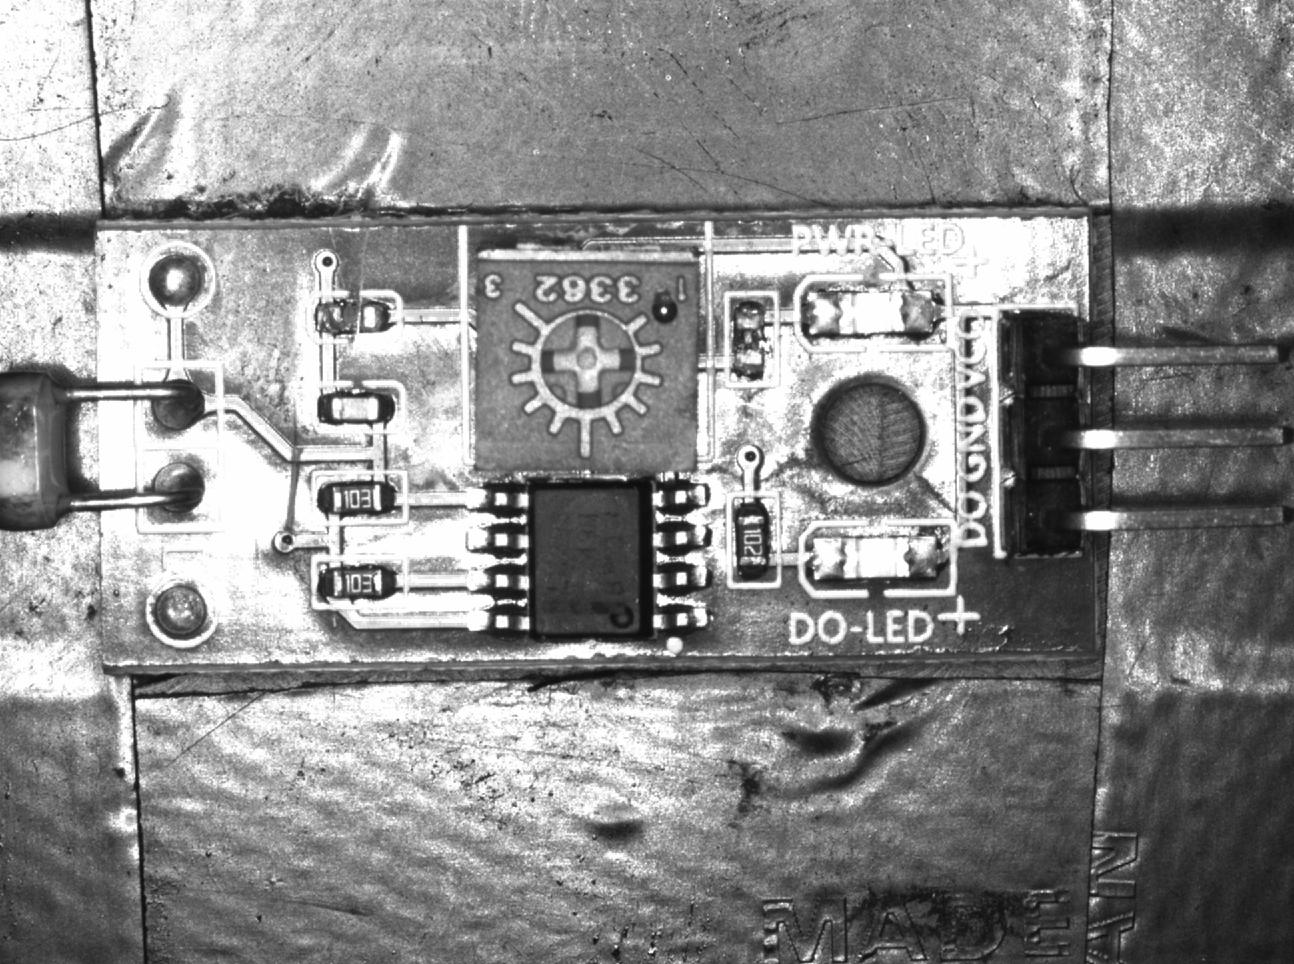miss: (304, 291, 401, 340), (729, 290, 778, 385)
ok: (311, 554, 408, 615), (309, 469, 409, 523), (730, 489, 780, 590), (310, 380, 403, 433)
